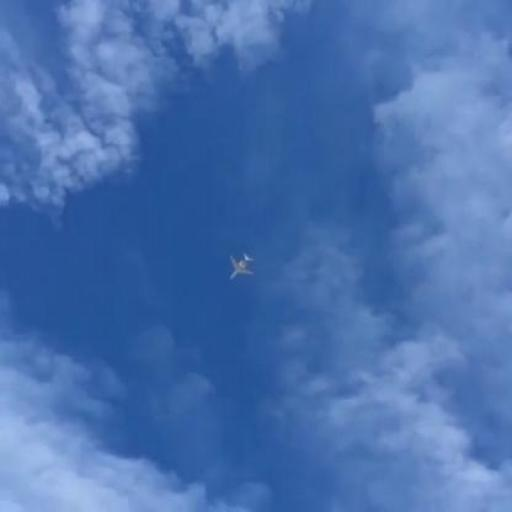aircraft: (229, 252, 256, 281)
